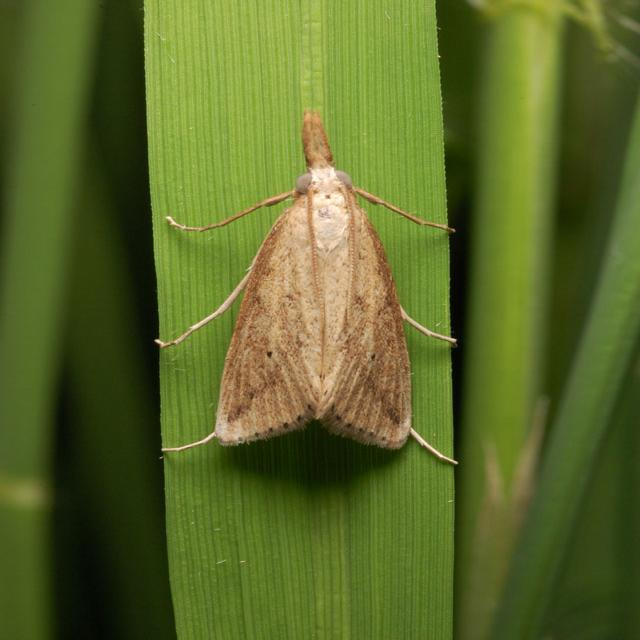cornborer-Adult-: (156, 96, 474, 474)
